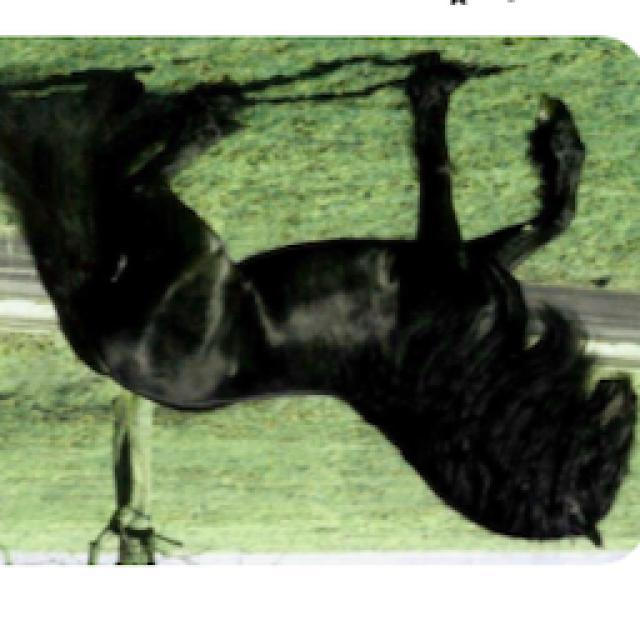Horse: (0, 57, 638, 555)
